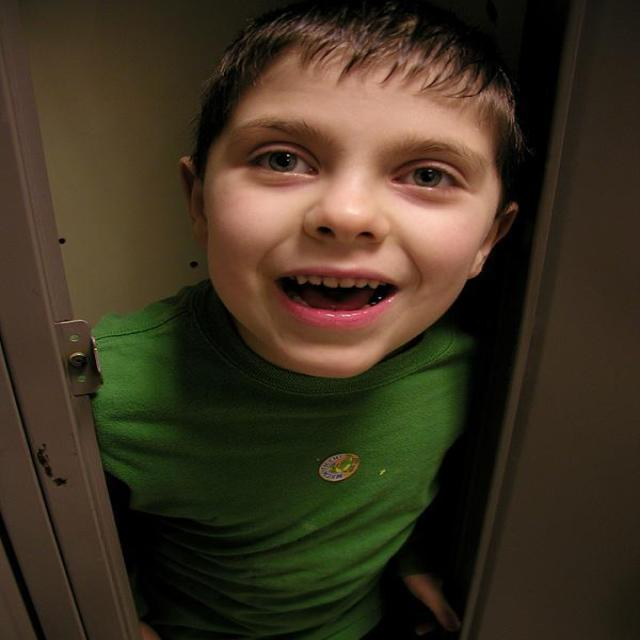no-glass: (235, 140, 472, 197)
